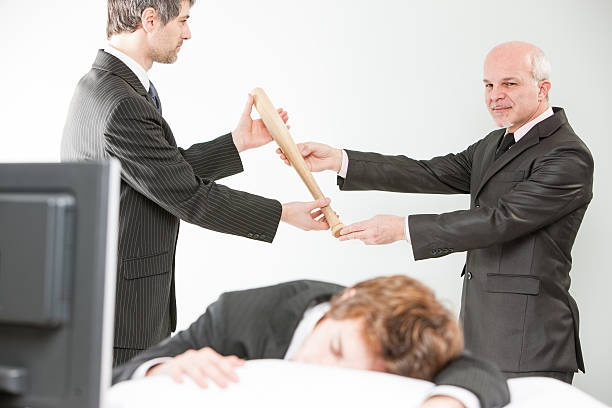bita: (245, 86, 336, 237)
